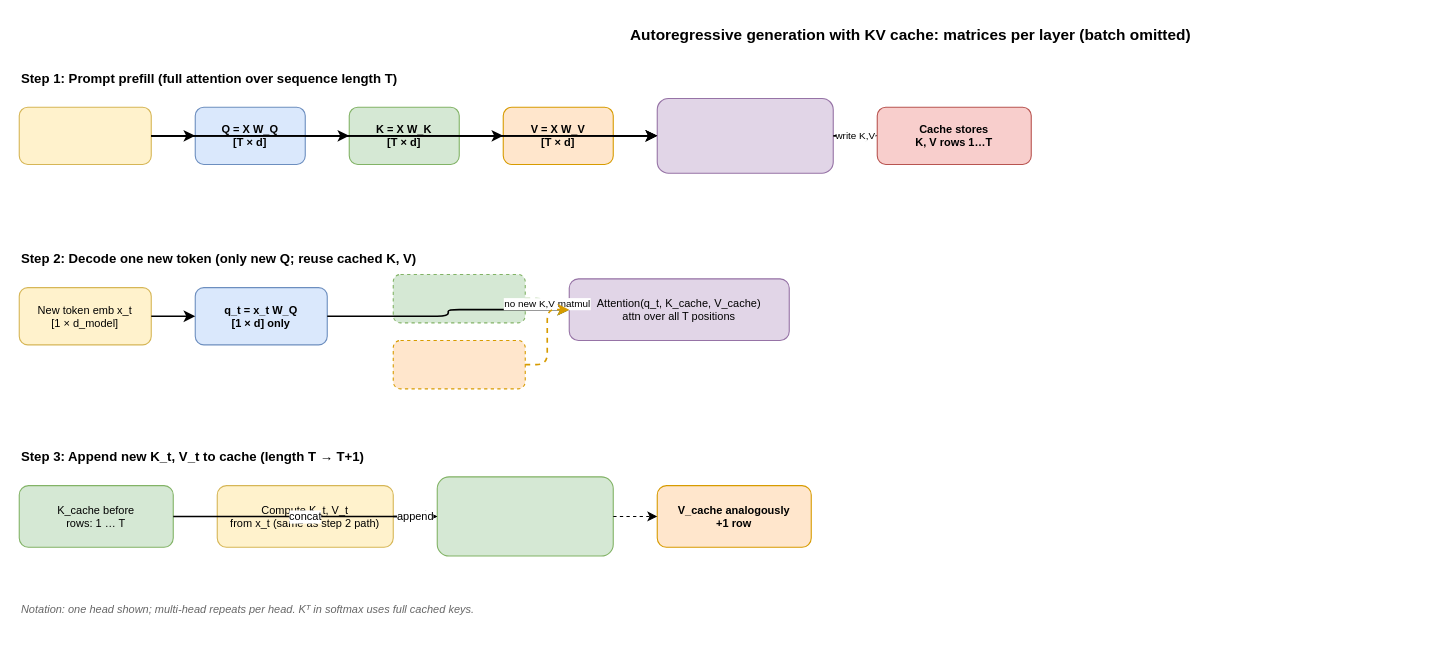
The diagram is 1447 pixels wide and 658 high, and some of its shapes have lost their labels. The centre of each missing label's shape, as x and y in pixels:
Attention(Q, K, V) softmax(QKᵀ/√d) V: [744,135]
Cached K [T × d] reuse: [458,298]
Cached V [T × d] reuse: [458,364]
Input X shape [T, d_model]: [84,135]
K_cache after rows: 1 … T, T+1 shape [(T+1) × d]: [524,516]
